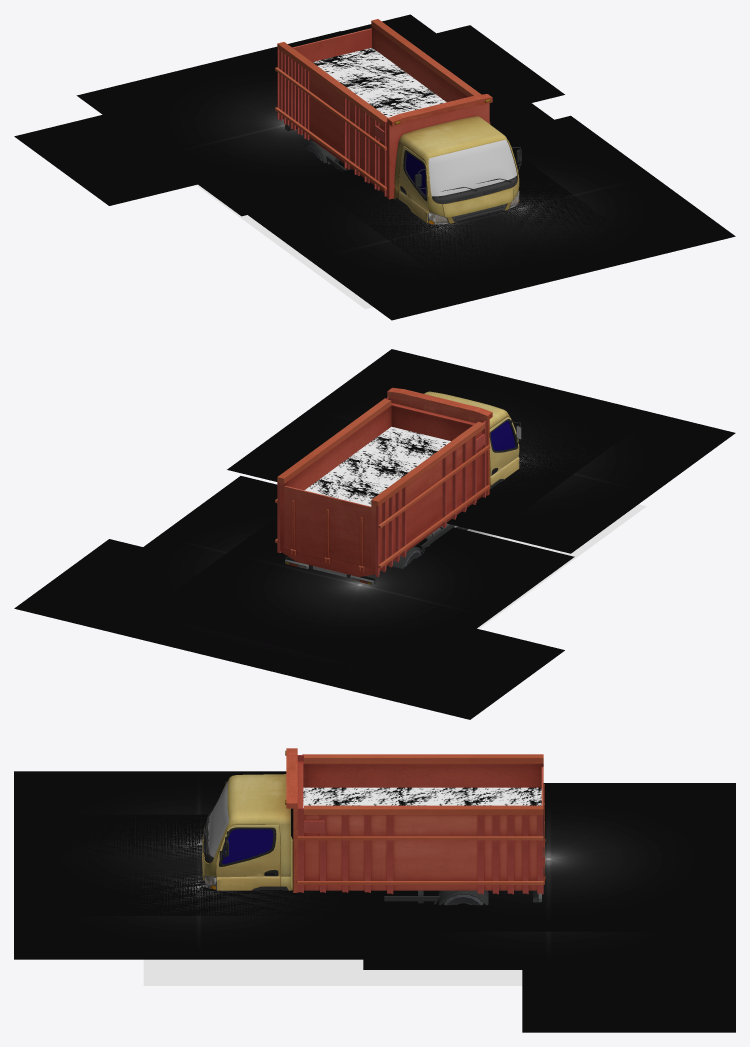
Rendered from Truck.FBX.
3 renders of one model, top to bottom at view 1: azimuth 30°, elevation 25°; view 2: azimuth 150°, elevation 25°; view 3: azimuth 270°, elevation 25°, orthographic. The views are drawn at different scales.
Visible parts, largest first — view 1: Lamp_FlareFR, Lamp_FlareFL, Body, Lamp_FlareBR, LightSpotMotoRed, Lamp_FlareBL, RainGlass, Door_Rear, AO_jb001; view 2: Lamp_FlareBR, Body, Lamp_FlareFL, LightSpotMotoRed, Lamp_FlareFR, Lamp_FlareBL, Door_Rear, AO_jb001; view 3: Body, Lamp_FlareBR, Lamp_FlareFL, Lamp_FlareFR, LightSpotMotoRed, Lamp_FlareBL, AO_jb001, Door_Front, Glass_door, RainGlass.
Boxes of the visible parts, left/top/right/bottom form: Lamp_FlareFR: left=227, top=151, right=651, bottom=320; Lamp_FlareFL: left=327, top=115, right=735, bottom=300; Body: left=275, top=19, right=519, bottom=224; Lamp_FlareBR: left=76, top=31, right=350, bottom=216; LightSpotMotoRed: left=14, top=25, right=564, bottom=205; Lamp_FlareBL: left=342, top=14, right=553, bottom=132; RainGlass: left=428, top=139, right=516, bottom=196; Door_Rear: left=292, top=28, right=371, bottom=62; AO_jb001: left=196, top=184, right=373, bottom=309; Lamp_FlareBR: left=145, top=516, right=574, bottom=677; Body: left=275, top=387, right=521, bottom=584; Lamp_FlareFL: left=227, top=349, right=655, bottom=534; LightSpotMotoRed: left=14, top=539, right=564, bottom=719; Lamp_FlareFR: left=442, top=369, right=735, bottom=553; Lamp_FlareBL: left=76, top=476, right=340, bottom=660; Door_Rear: left=284, top=485, right=371, bottom=568; AO_jb001: left=454, top=504, right=646, bottom=628; Body: left=202, top=748, right=544, bottom=905; Lamp_FlareBR: left=384, top=786, right=733, bottom=931; Lamp_FlareFL: left=14, top=814, right=384, bottom=959; Lamp_FlareFR: left=14, top=771, right=383, bottom=915; LightSpotMotoRed: left=522, top=783, right=735, bottom=1032; Lamp_FlareBL: left=363, top=931, right=733, bottom=969; AO_jb001: left=143, top=959, right=522, bottom=985; Door_Front: left=216, top=824, right=280, bottom=890; Glass_door: left=222, top=829, right=273, bottom=863; RainGlass: left=208, top=780, right=229, bottom=857.
Size of what is drawn, in the model's own units: 12.27 by 3.11 by 14.99.
